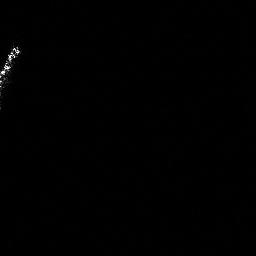ship: (1, 43, 20, 94)
